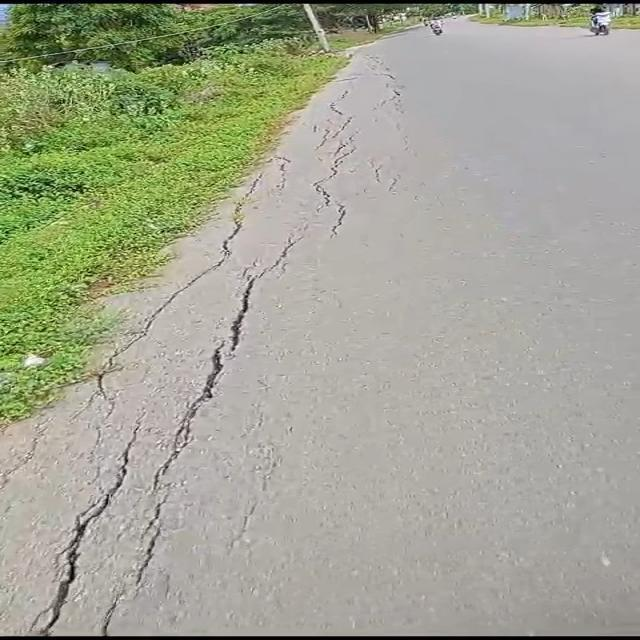Memanjang: (4, 245, 310, 640)
